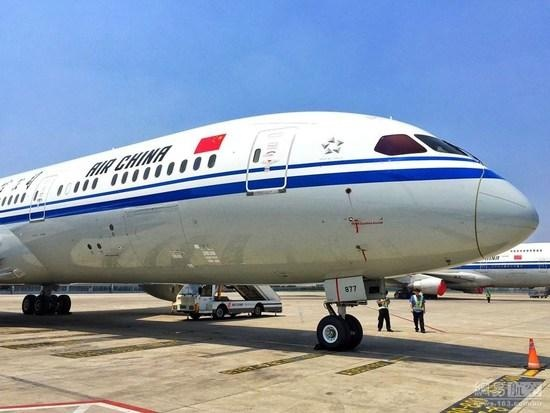airplane: (4, 109, 537, 348)
person: (411, 287, 431, 331)
